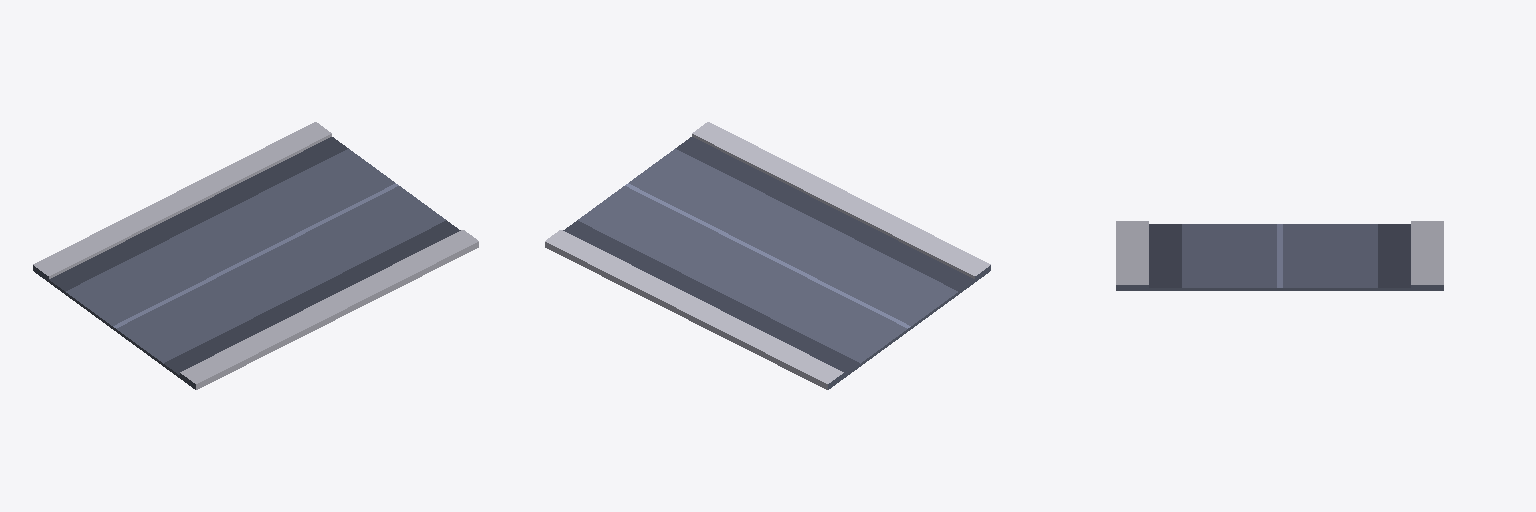
Rendered from road_slantFlat.obj.
The picture shows the model from 3 angles: view 1: azimuth 30°, elevation 25°; view 2: azimuth 150°, elevation 25°; view 3: azimuth 270°, elevation 25°; orthographic projection.
Visible parts, largest first — view 1: road_slantFlat; view 2: road_slantFlat; view 3: road_slantFlat.
Part boxes in pixels (x1,y1,x2,y2): road_slantFlat: (33, 122, 478, 389); road_slantFlat: (545, 122, 990, 389); road_slantFlat: (1116, 221, 1443, 290).
Bounding box in the file's own units: 1 × 0.27 × 1.